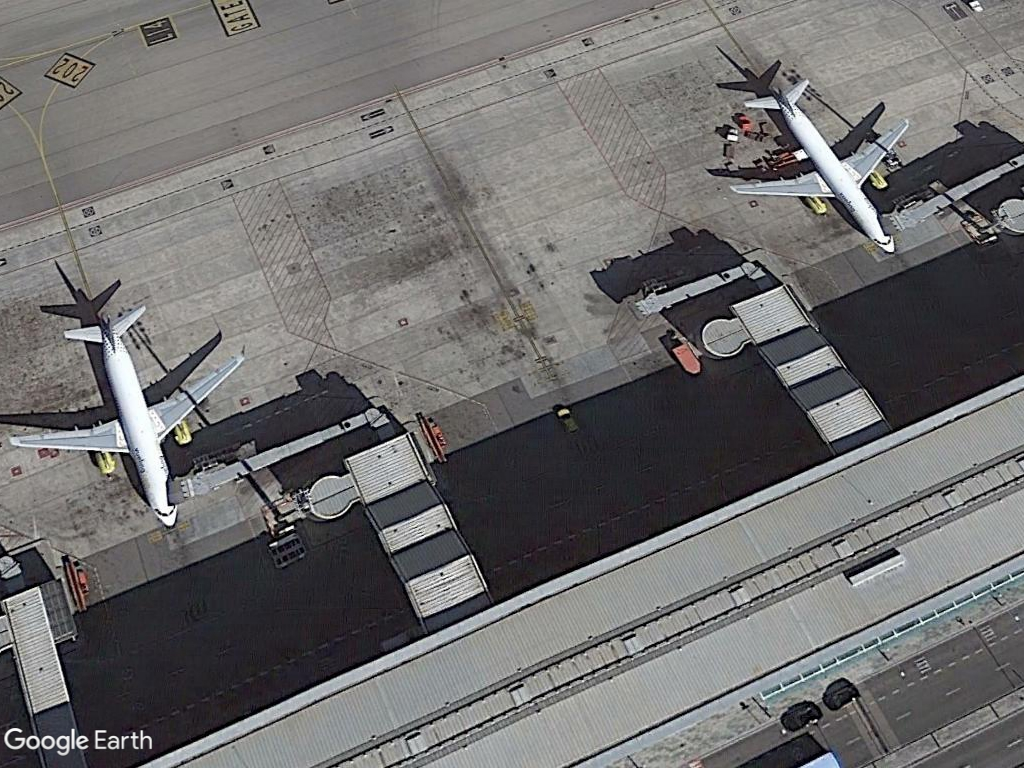airliner: (6, 308, 250, 532), (729, 73, 912, 258)
